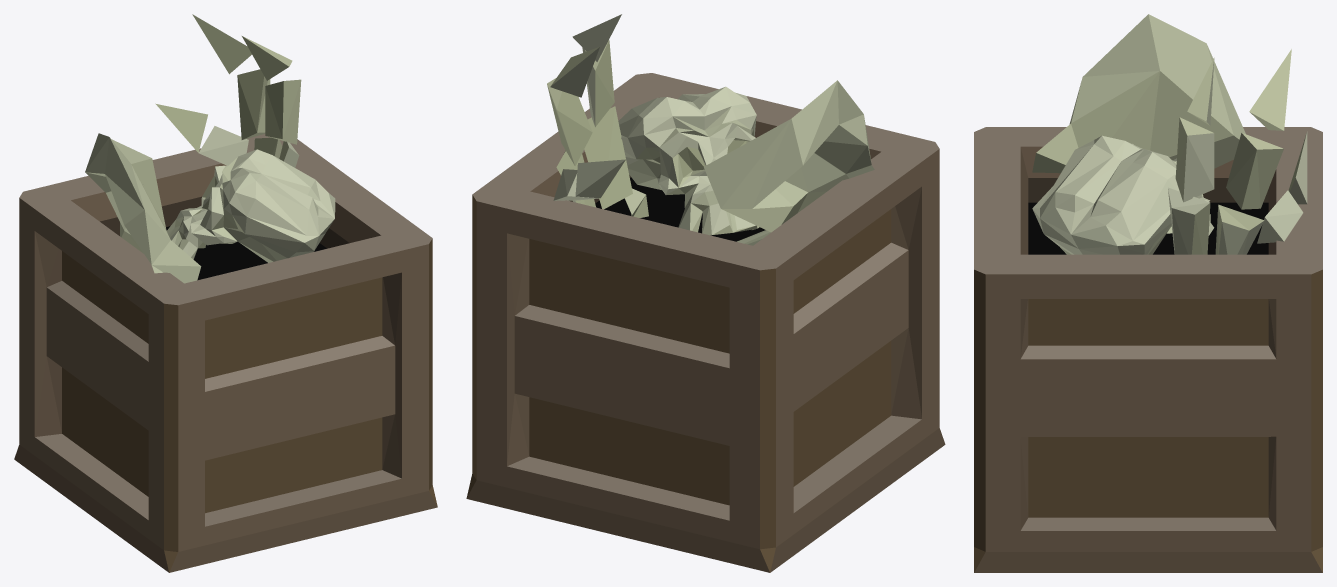
File: fossil-storage.gltf
3 views of the same model, side by side, from view 1: azimuth 30°, elevation 25°; view 2: azimuth 150°, elevation 25°; view 3: azimuth 270°, elevation 25° (orthographic). The views are drawn at different scales.
Size of the model in its own units: 90 by 133 by 90.
1 material, 1 textured.
